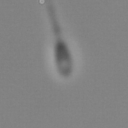normal: (45, 1, 63, 39)
